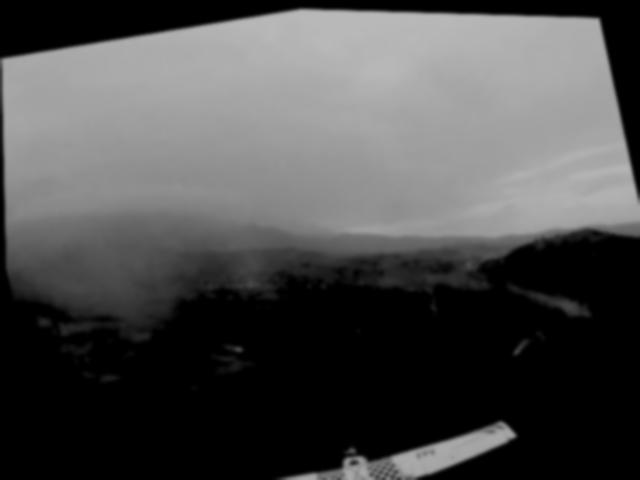hedef: (177, 402, 527, 480)
